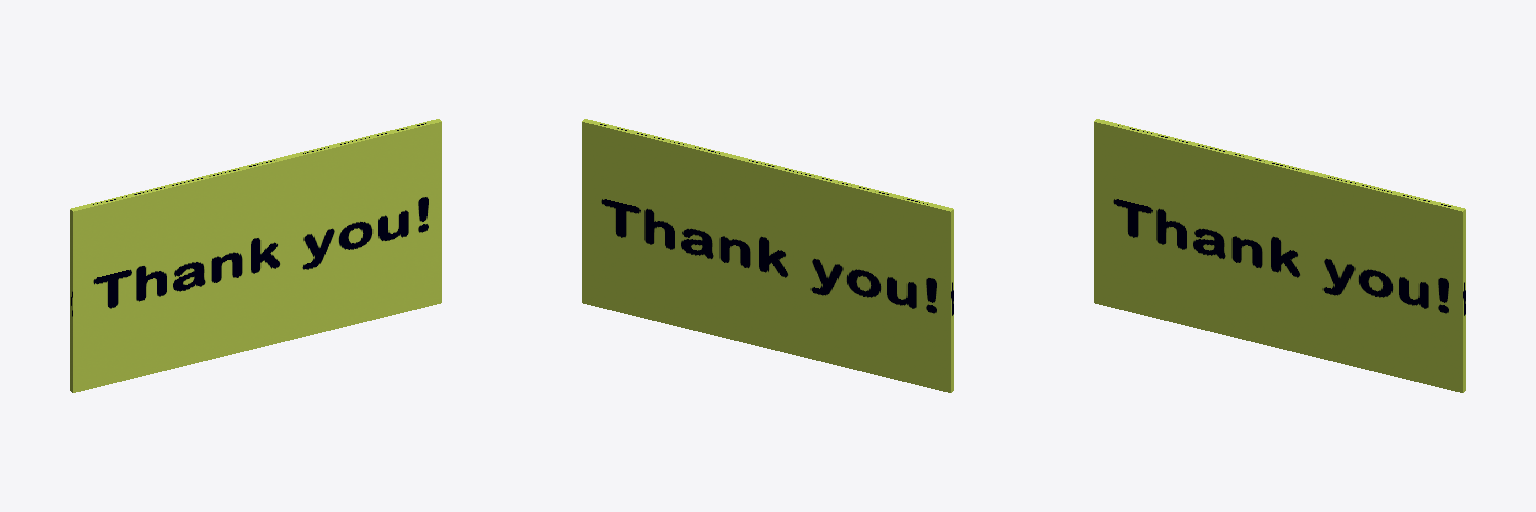
3 views of the same model, side by side, from view 1: azimuth 30°, elevation 25°; view 2: azimuth 150°, elevation 25°; view 3: azimuth 330°, elevation 25° (orthographic).
Visible parts, largest first — view 1: Box001; view 2: Box001; view 3: Box001.
Boxes of the visible parts, x1,y1,x2,y2 form: Box001: [70, 119, 441, 392]; Box001: [582, 119, 953, 392]; Box001: [1094, 119, 1465, 392].
Bounding box in the file's own units: 31.29 × 14.71 × 0.5639.
1 materials, 1 textured.